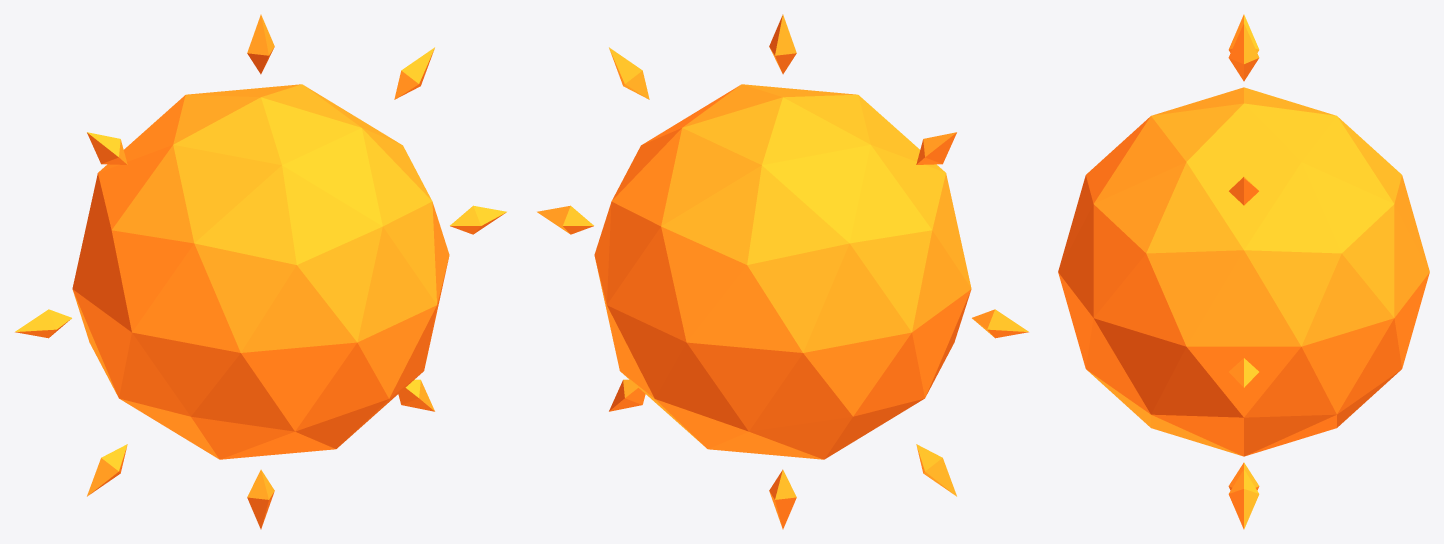
The model's file is space_sun.fbx.
The picture shows the model from 3 angles, left to right: view 1: azimuth 30°, elevation 25°; view 2: azimuth 150°, elevation 25°; view 3: azimuth 270°, elevation 25°; orthographic projection. The views are drawn at different scales.
Visible parts, largest first — view 1: space_sun; view 2: space_sun; view 3: space_sun.
Boxes of the visible parts, x1,y1,x2,y2 form: space_sun: [15, 14, 506, 529]; space_sun: [537, 14, 1028, 529]; space_sun: [1058, 14, 1429, 529].
Bounding box in the file's own units: 200 × 200 × 135.
